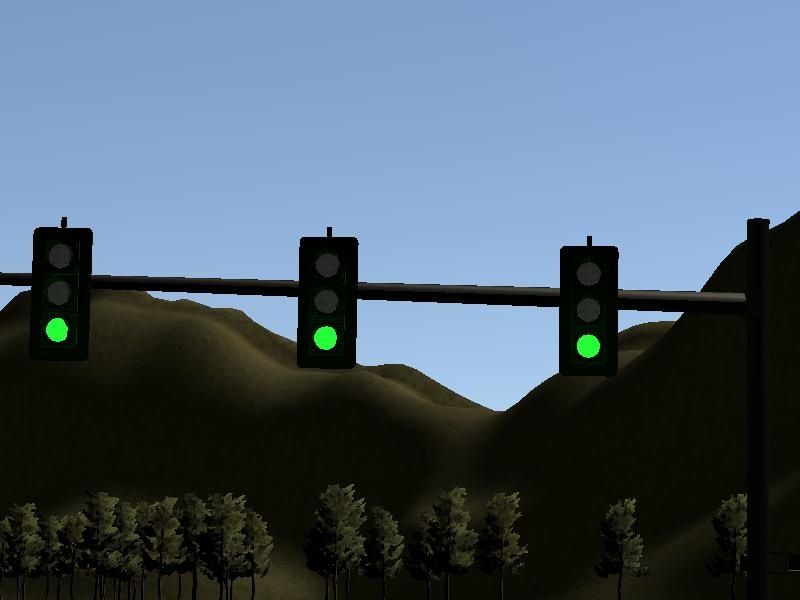GREEN: (297, 237, 358, 370), (30, 227, 91, 360), (559, 246, 619, 373)
